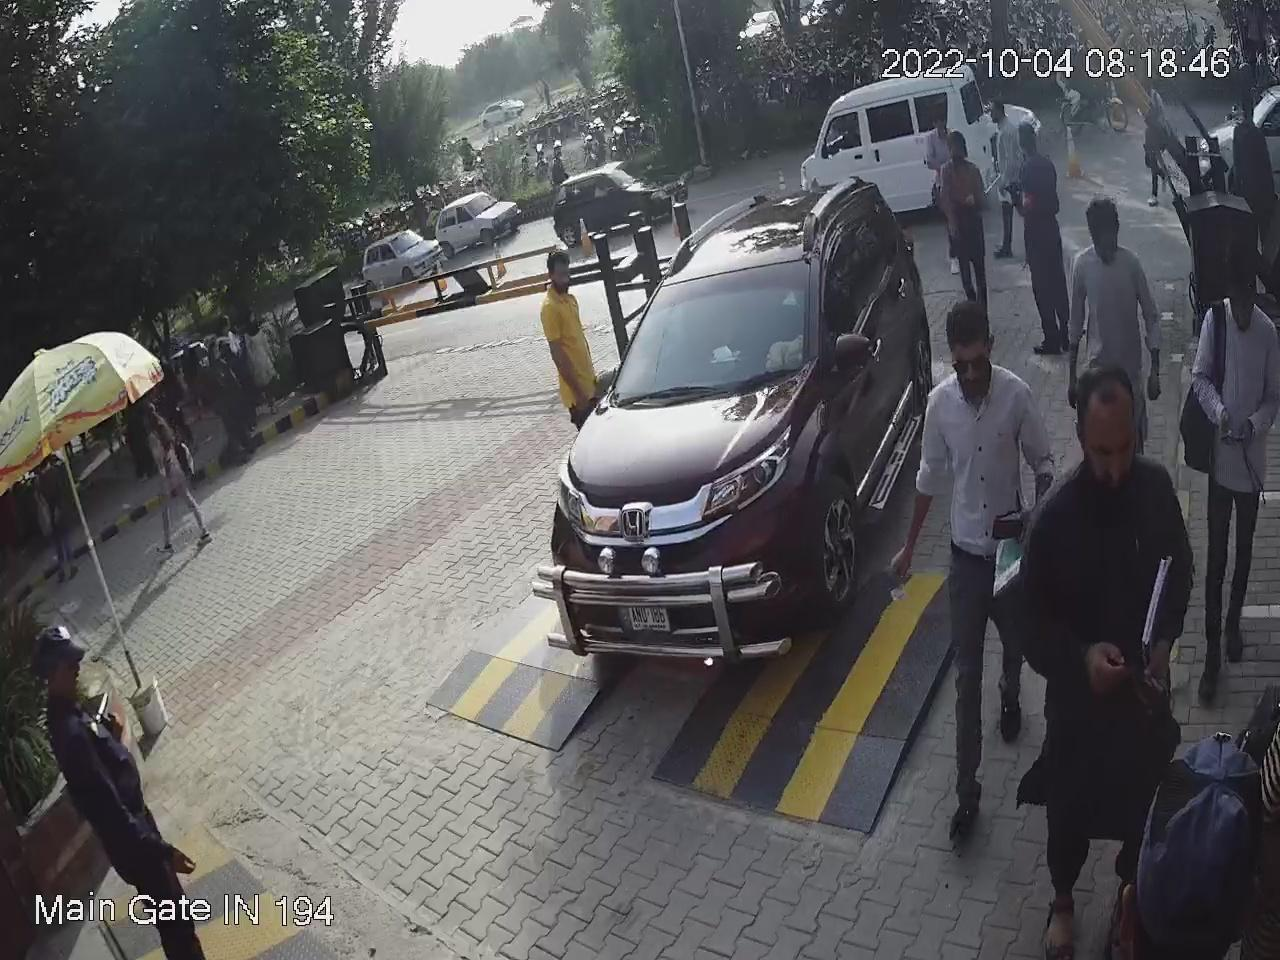windshield: (606, 247, 823, 405)
